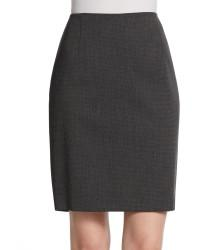F_tailored skirt: (44, 9, 182, 218)
